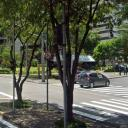NoVirarU: (45, 51, 51, 59)
